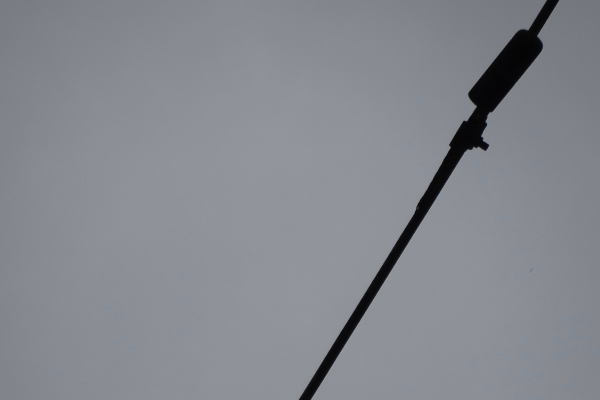damper_defect: (404, 24, 545, 226)
